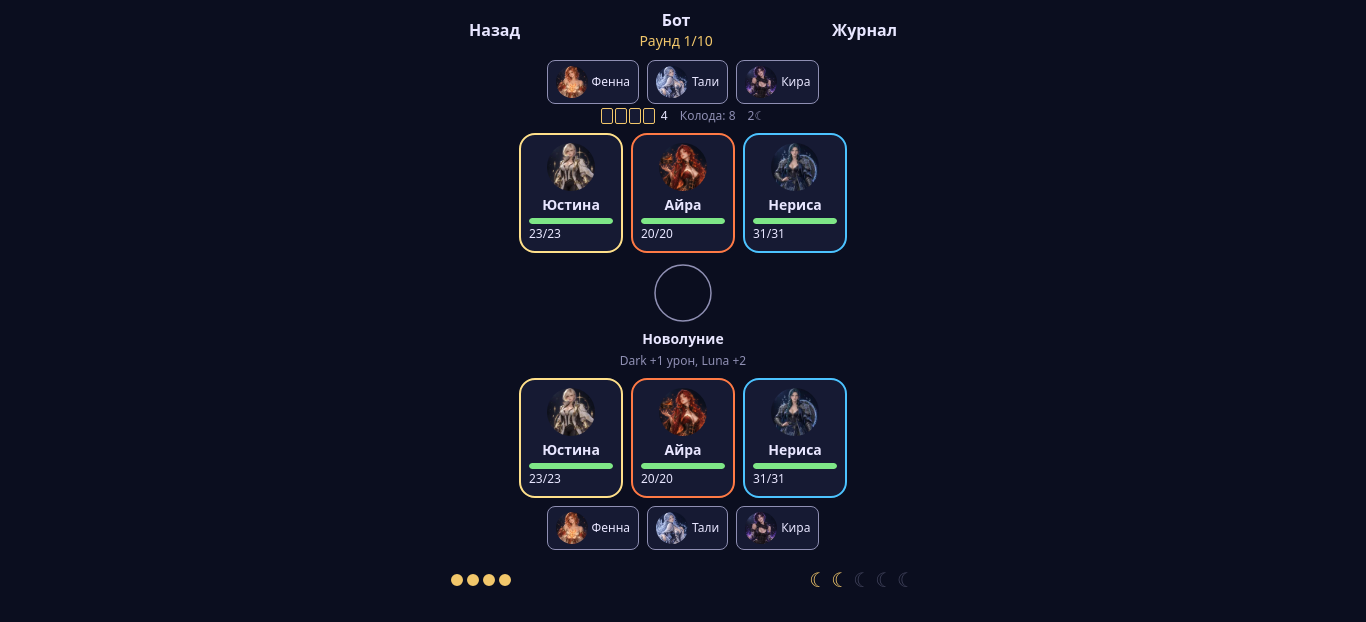
Test case: экран боя: «Назад» и сдача › «Нет» закрывает подтверждение, матч продолжается
This screenshot has width=1366, height=622.
Expected: the element with test id "battle" is shown, [451, 8, 915, 52]
Click the button "Назад": (495, 30) [451, 8, 538, 52]
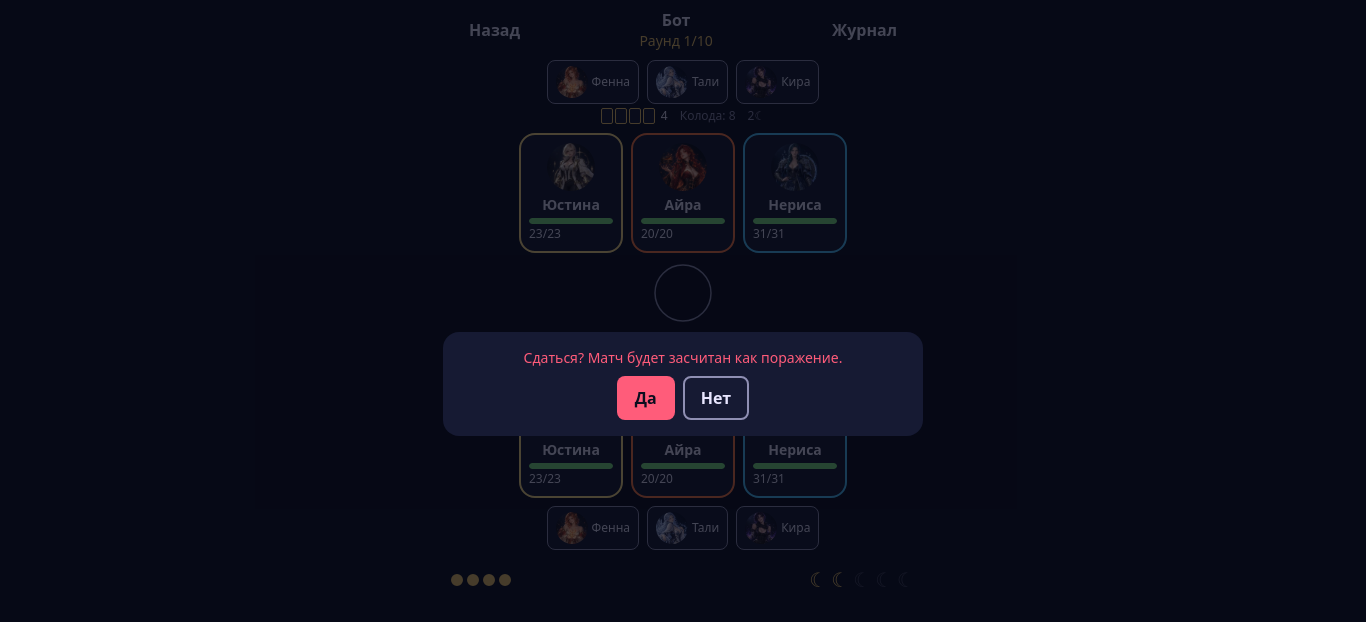
Click the button "Нет": (716, 398) [683, 376, 749, 420]
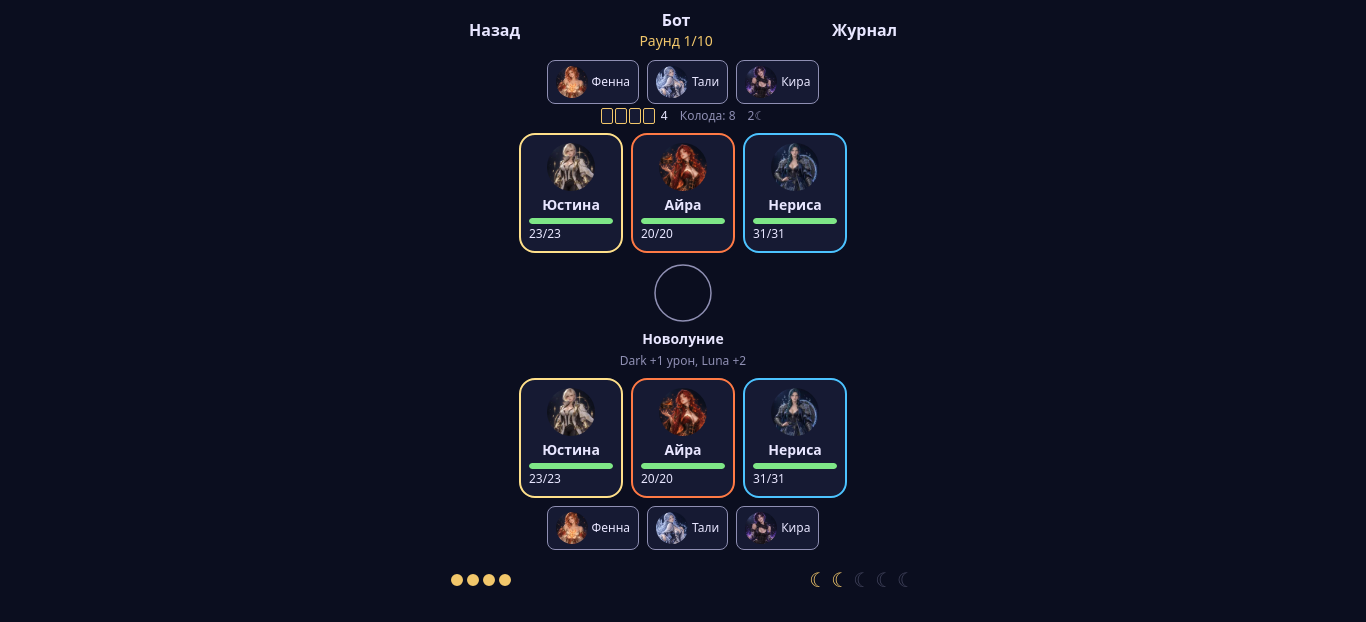
Expected: the text "Сдаться? Матч будет засчитан как поражение." is gone
